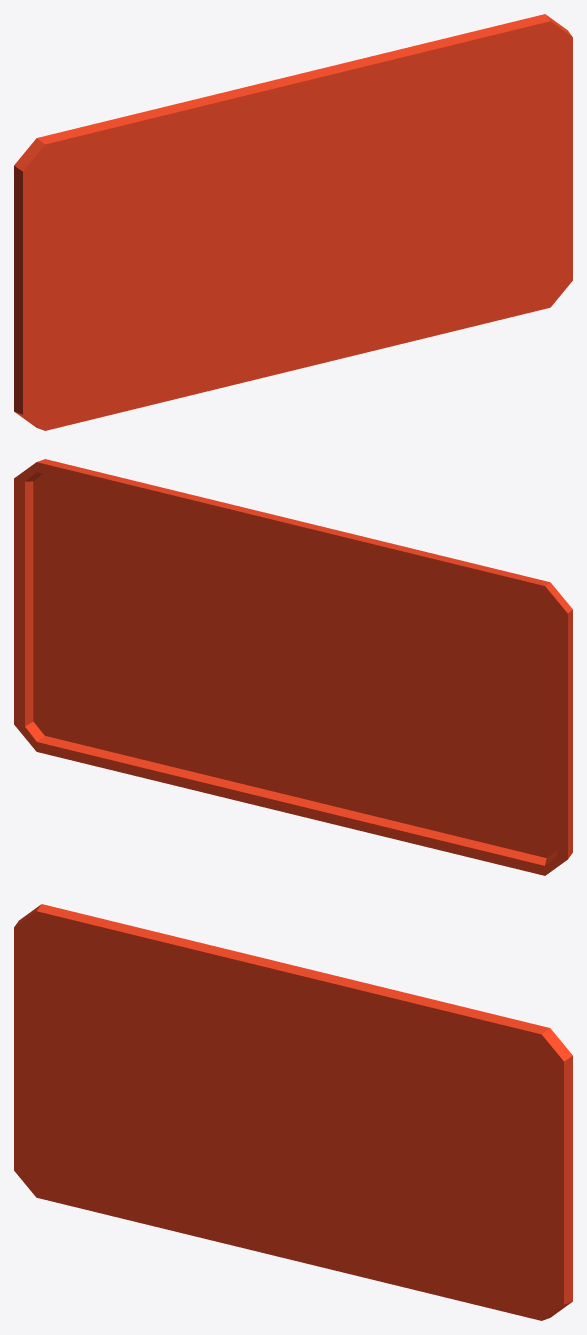
Rendered from SM_Sign_Destination_Small_City.fbx.
3 views of the same model, one above another, from view 1: azimuth 30°, elevation 25°; view 2: azimuth 150°, elevation 25°; view 3: azimuth 330°, elevation 25° (orthographic).
Visible parts, largest first — view 1: SM_Sign_Destination_Small_City; view 2: SM_Sign_Destination_Small_City; view 3: SM_Sign_Destination_Small_City.
Part boxes in pixels (left/top/right/bottom): SM_Sign_Destination_Small_City: left=14, top=14, right=572, bottom=430; SM_Sign_Destination_Small_City: left=14, top=459, right=572, bottom=875; SM_Sign_Destination_Small_City: left=14, top=904, right=572, bottom=1320.
Size of the model in its own units: 1 by 0.5 by 0.0219.
